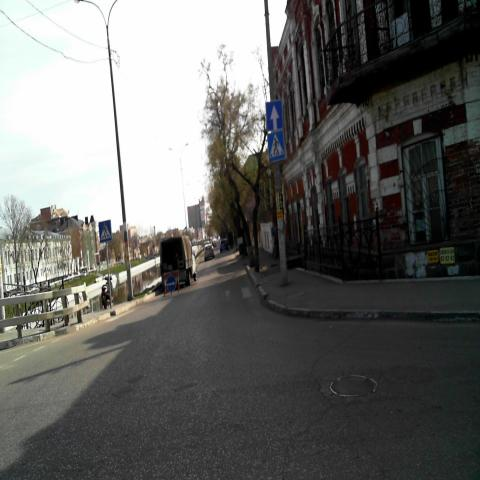4_1_2_1: (166, 273, 176, 291)
